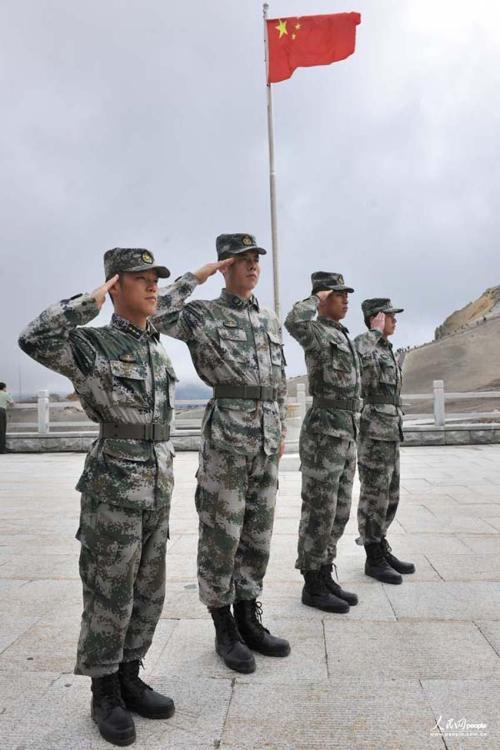up: (12, 243, 185, 750), (139, 231, 295, 677), (278, 265, 367, 619), (346, 294, 425, 591)
